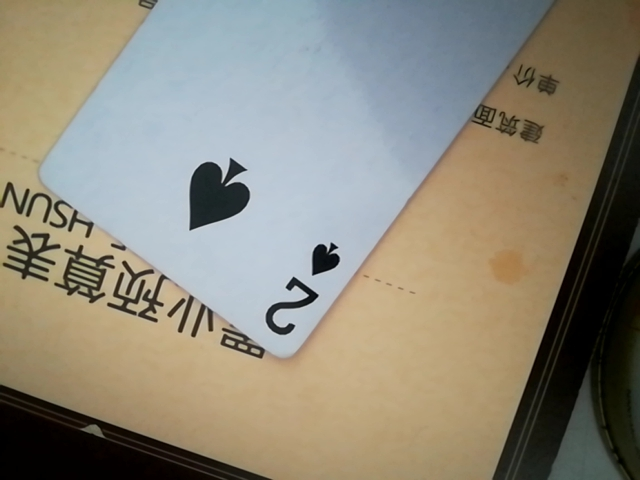ht 2: (34, 2, 574, 367)
